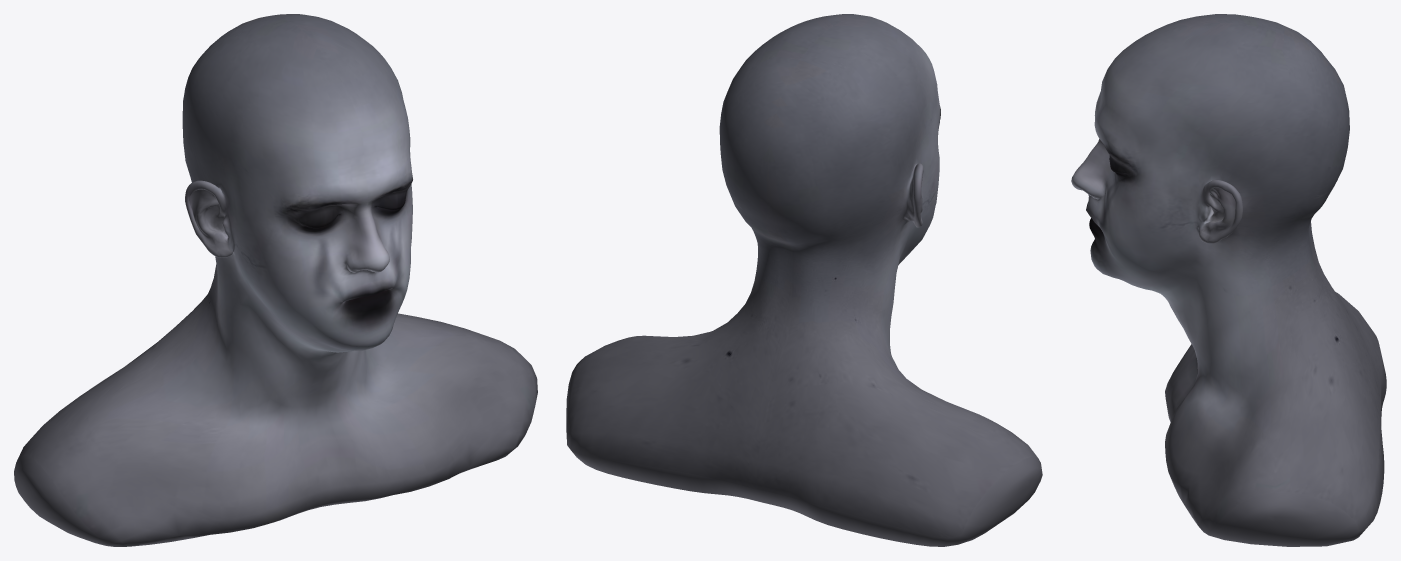
File: hollow.glb
3 renders of one model, left to right at view 1: azimuth 30°, elevation 25°; view 2: azimuth 150°, elevation 25°; view 3: azimuth 270°, elevation 25°, orthographic. The views are drawn at different scales.
Visible parts, largest first — view 1: LeePerrySmith; view 2: LeePerrySmith; view 3: LeePerrySmith.
Part boxes in pixels (box(x1,y1,x2,y2)): LeePerrySmith: box(14, 14, 537, 546); LeePerrySmith: box(566, 14, 1042, 546); LeePerrySmith: box(1071, 14, 1386, 546).
Bounding box in the file's own units: 8.55 × 7.95 × 5.18.
1 material, 1 textured.
